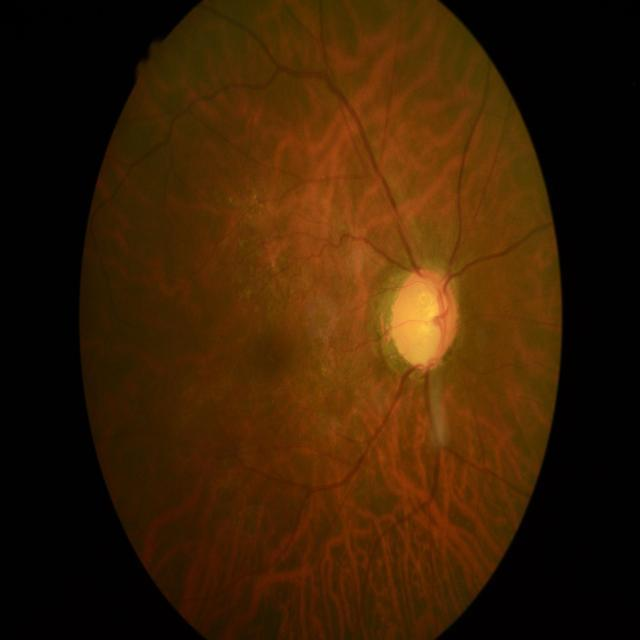cup: (407, 278, 450, 365)
disk: (392, 270, 460, 370)
